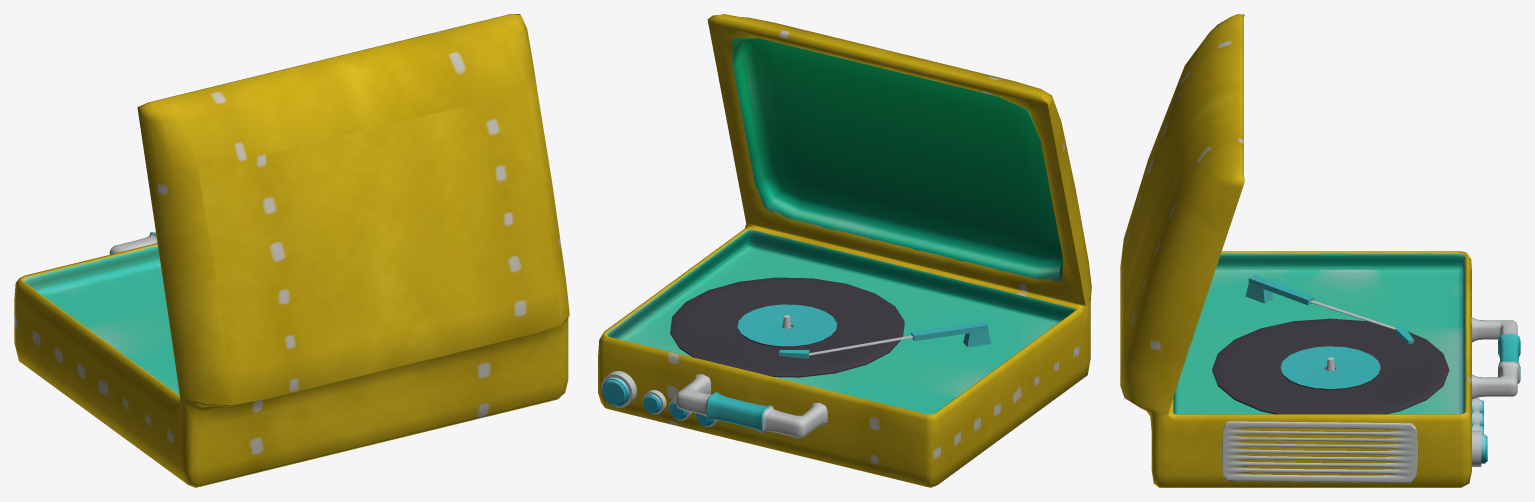
File: Substance record.glb
The picture shows the model from 3 angles, left to right: view 1: azimuth 30°, elevation 25°; view 2: azimuth 150°, elevation 25°; view 3: azimuth 270°, elevation 25°; orthographic projection. The views are drawn at different scales.
Parts seen in each view (by area): view 1: record_player; view 2: record_player, record4; view 3: record_player, record4.
Boxes of the visible parts, x1,y1,x2,y2 form: record_player: (14, 14, 569, 487); record_player: (598, 14, 1091, 487); record4: (670, 277, 904, 377); record_player: (1120, 14, 1520, 487); record4: (1212, 318, 1449, 414).
Bounding box in the file's own units: 47.12 × 41.39 × 47.66.
1 material, 1 textured.
